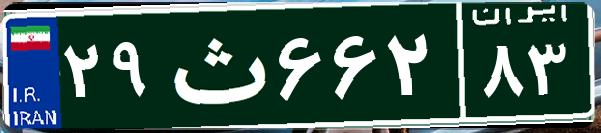2: (385, 28, 445, 110), (57, 26, 110, 107)
3: (525, 38, 570, 115)
6: (273, 28, 330, 110), (330, 28, 385, 110)
8: (475, 38, 525, 113)
9: (110, 28, 158, 105)
ث: (158, 15, 273, 115)
